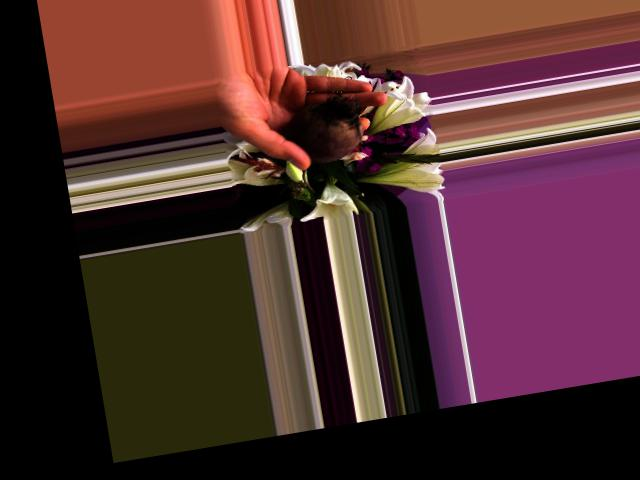beet: (281, 94, 374, 196)
